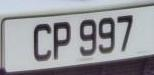7: (116, 12, 137, 56)
9: (77, 13, 99, 63), (97, 13, 118, 60)
C: (28, 19, 56, 66)
P: (51, 17, 75, 66)
